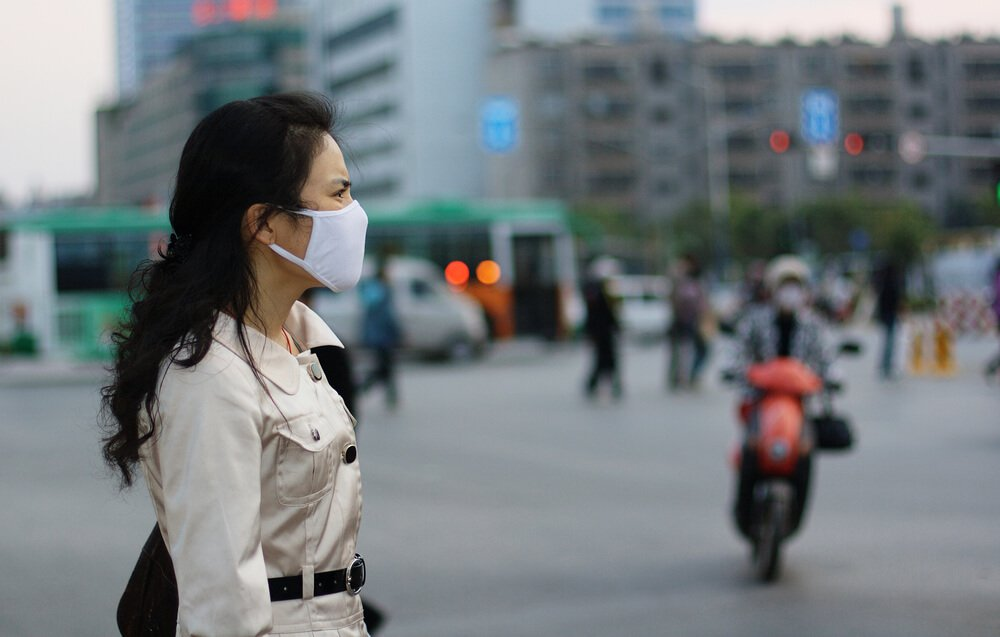mask: (159, 93, 396, 312)
